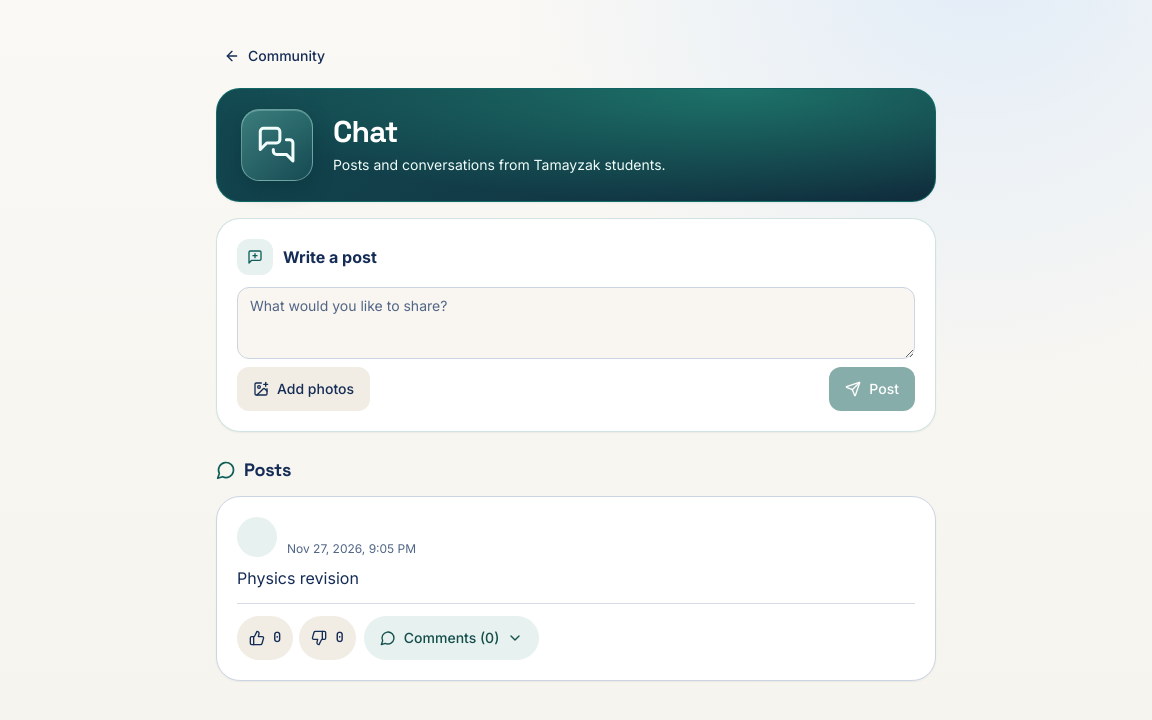
Scenario: animates selecting a reaction, switches the saved vote, and clears it on a second tap
Click the button named "Like" at {"x": 265, "y": 638}, box [237,616,293,660]
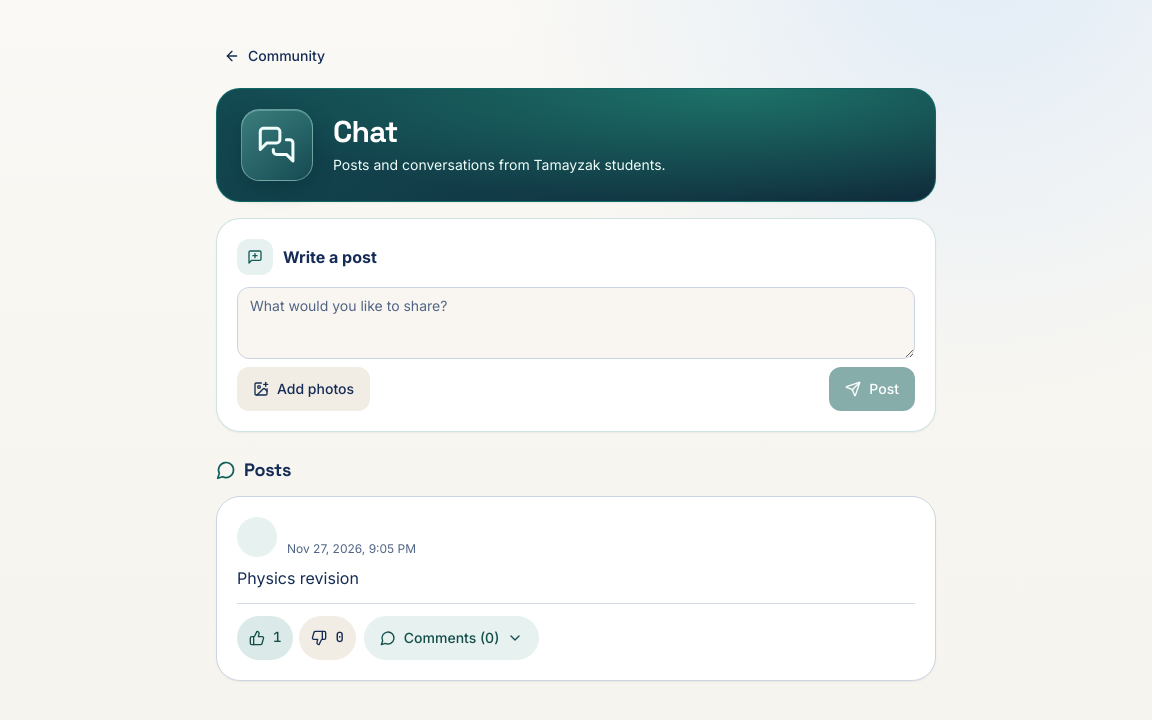
Expected: the button named "Like" reads "1", [237,616,293,660]
Click the button named "Dislike" at {"x": 328, "y": 638}, box [299,616,356,660]
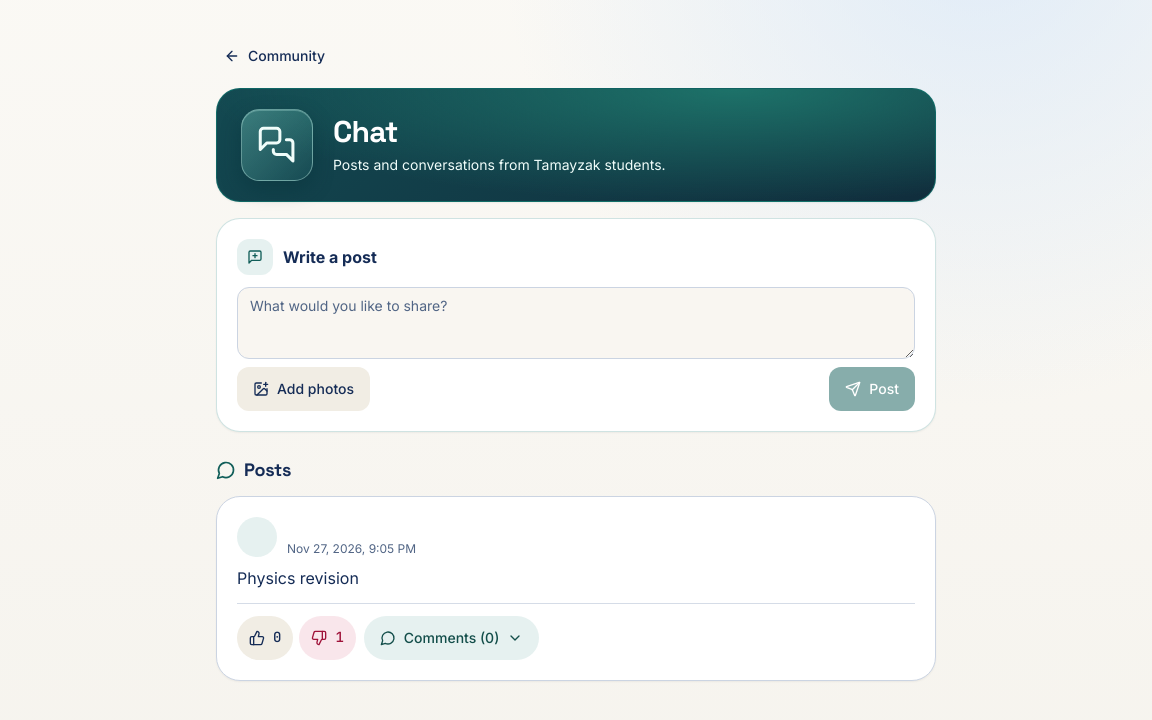
Expected: the button named "Like" reads "0", [237,616,293,660]
Expected: the button named "Dislike" reads "1"
Click the button named "Dislike" at {"x": 328, "y": 638}, box [299,616,356,660]
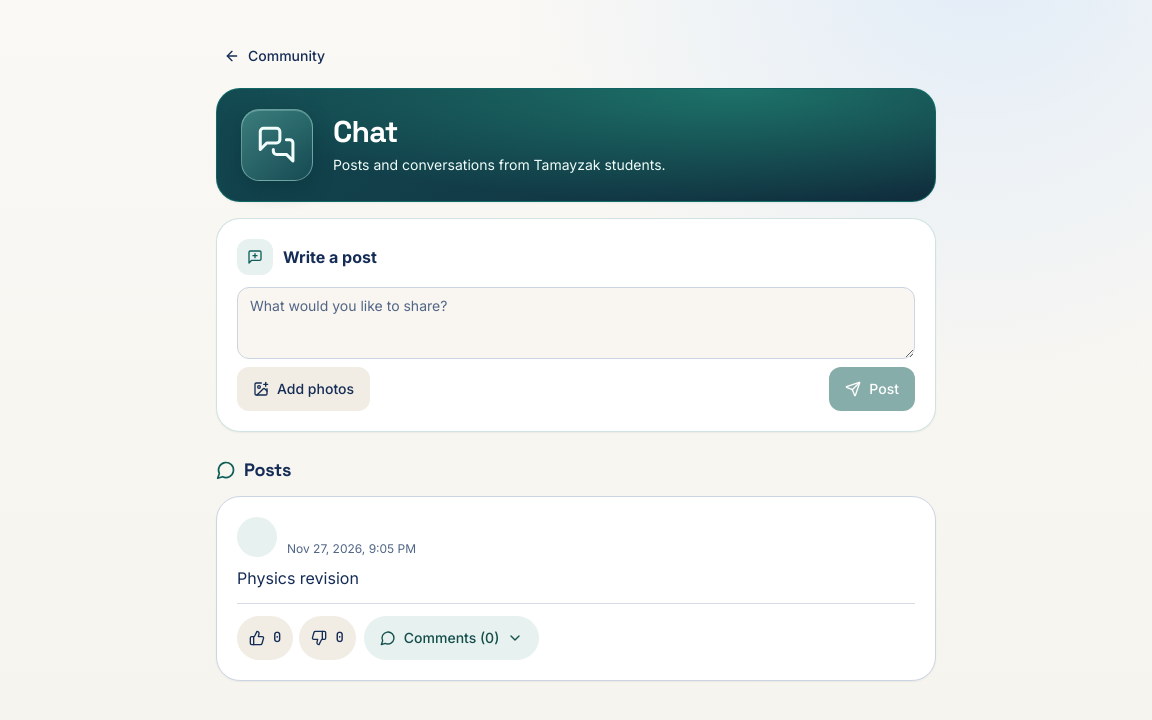
Expected: the button named "Dislike" is not pressed, [299,616,356,660]
